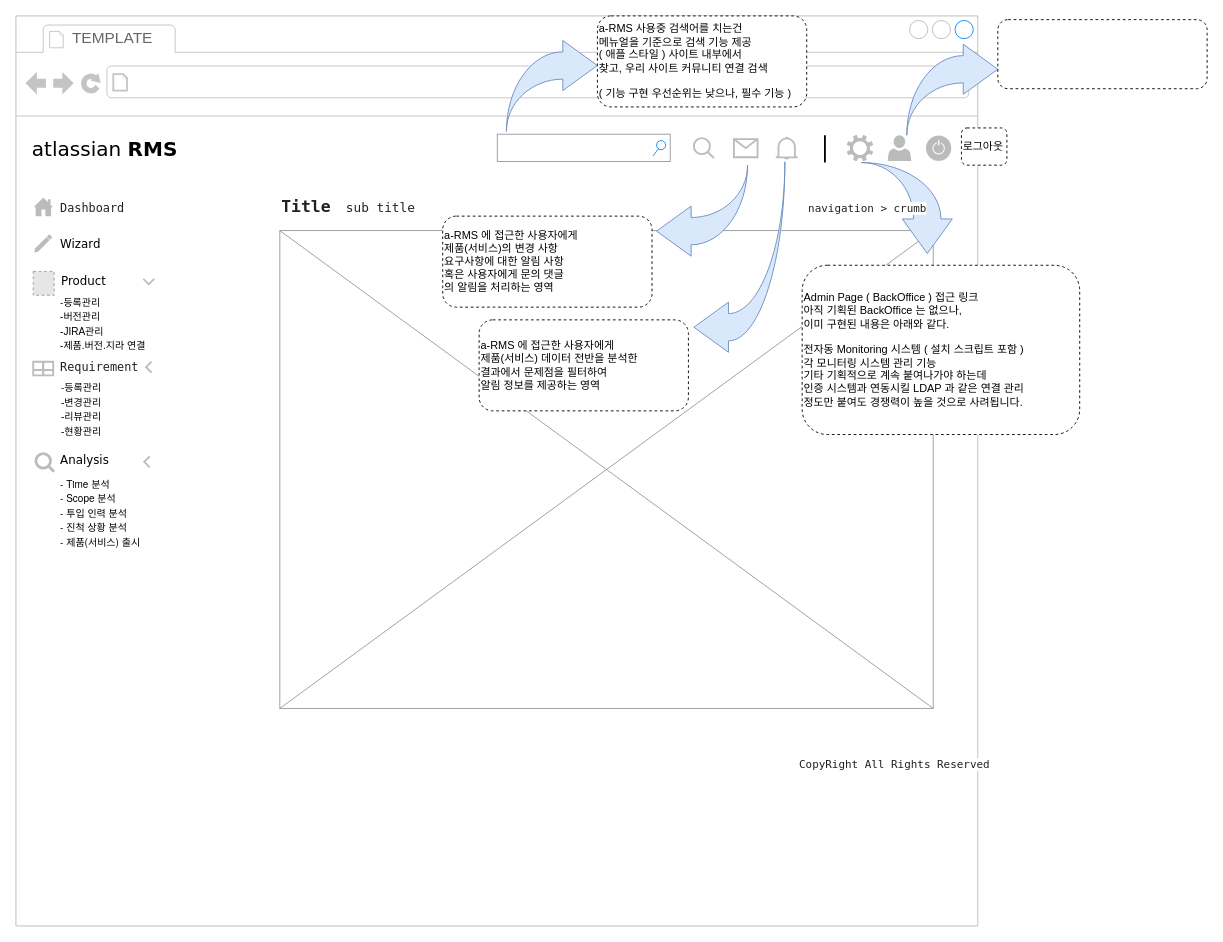
Some shapes in this 1223 by 942 pixel diagram are drawn without their labels. Grey dashed boxes stand in for pictures. Each missing label, with the box of its shape:
http://www.a-rms.net/313devgrp/arms/pdServiceVersion.html: (133, 70, 362, 94)
Search: (496, 133, 670, 162)
프로필 정보 확인 요구사항 리뷰 인박스, 아웃박스 링크 활동 내역: (997, 19, 1207, 89)
